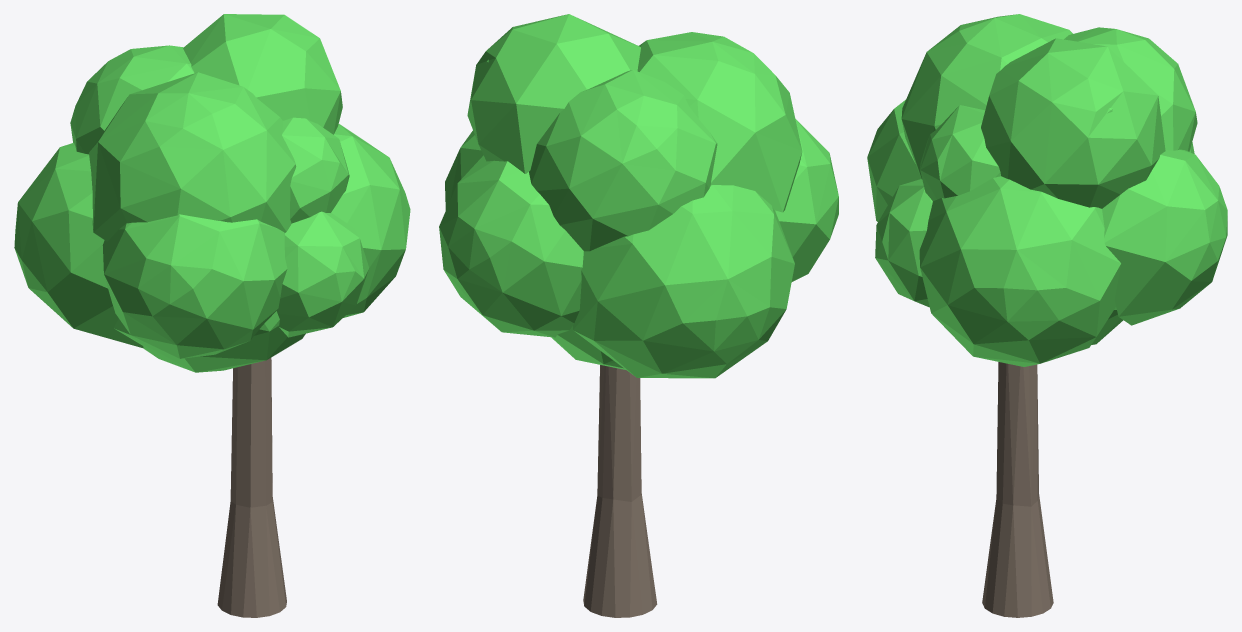
File: tree1.gltf
The picture shows the model from 3 angles, left to right: view 1: azimuth 30°, elevation 25°; view 2: azimuth 150°, elevation 25°; view 3: azimuth 270°, elevation 25°; orthographic projection. The views are drawn at different scales.
Parts seen in each view (by area): view 1: Sphere.017_wood_0; view 2: Sphere.017_wood_0; view 3: Sphere.017_wood_0.
Part boxes in pixels (x1,y1,x2,y2): Sphere.017_wood_0: (14, 14, 410, 617); Sphere.017_wood_0: (439, 14, 838, 617); Sphere.017_wood_0: (867, 14, 1227, 617).
Size of the model in its own units: 1.21 by 1.93 by 1.11.
